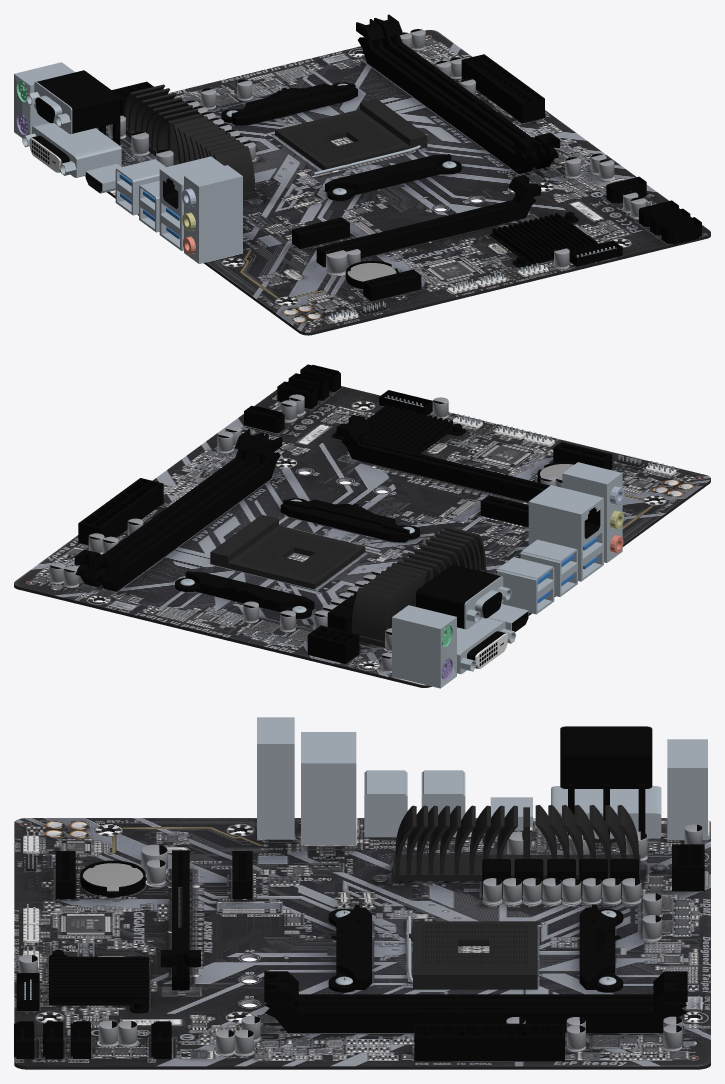
Rendered from placa-am4.glb.
The picture shows the model from 3 angles, top to bottom: view 1: azimuth 30°, elevation 25°; view 2: azimuth 150°, elevation 25°; view 3: azimuth 270°, elevation 25°; orthographic projection. The views are drawn at different scales.
Parts seen in each view (by area): view 1: motherboard_65, mosfet radiator_44, am4 socket_4, cooling system_39, 5.1 sound_2, ram slot 1_52, vga_64, pci expres slot_46, dvi_40, bridge radiator_9, 24 pin connector_0, ram slot 1.001_53 (+14 smaller); view 2: motherboard_65, am4 socket_4, mosfet radiator_44, cooling system_39, ram slot 1_52, ethernet and usb 2.0_41, ps/2_47, pci expres slot_46, vga_64, ram slot 1.001_53, bridge radiator_9, 5.1 sound_2 (+14 smaller); view 3: motherboard_65, mosfet radiator_44, ram slot 1.001_53, am4 socket_4, vga_64, ethernet and usb 2.0_41, cooling system_39, 24 pin connector_0, bridge radiator_9, 5.1 sound_2, ram slot 1_52, ps/2_47 (+18 smaller).
Part boxes in pixels (x1,y1,x2,y2): motherboard_65: (85, 30, 710, 335); mosfet radiator_44: (123, 84, 255, 199); am4 socket_4: (275, 99, 427, 169); cooling system_39: (221, 82, 461, 200); 5.1 sound_2: (182, 165, 242, 263); ram slot 1_52: (358, 37, 540, 173); vga_64: (26, 70, 120, 145); pci expres slot_46: (316, 195, 535, 267); dvi_40: (22, 122, 121, 177); bridge radiator_9: (490, 212, 597, 267); 24 pin connector_0: (461, 54, 544, 123); ram slot 1.001_53: (381, 34, 558, 169); motherboard_65: (14, 381, 710, 687); am4 socket_4: (210, 515, 365, 589); mosfet radiator_44: (351, 526, 486, 647); cooling system_39: (175, 498, 419, 619); ram slot 1_52: (95, 452, 280, 591); ethernet and usb 2.0_41: (528, 485, 603, 581); ps/2_47: (392, 605, 456, 688); pci expres slot_46: (341, 436, 549, 501); vga_64: (416, 564, 511, 629); ram slot 1.001_53: (75, 449, 256, 587); bridge radiator_9: (332, 404, 466, 453); 5.1 sound_2: (562, 462, 624, 562); motherboard_65: (14, 818, 710, 1069); mosfet radiator_44: (393, 805, 640, 880); ram slot 1.001_53: (265, 1002, 686, 1033); am4 socket_4: (409, 921, 537, 989); vga_64: (560, 726, 652, 837); ethernet and usb 2.0_41: (301, 732, 356, 844); cooling system_39: (328, 904, 623, 992); 24 pin connector_0: (414, 1023, 564, 1061); bridge radiator_9: (49, 950, 149, 1013); 5.1 sound_2: (257, 717, 294, 839); ram slot 1_52: (266, 994, 686, 1005); ps/2_47: (667, 739, 707, 840).
Bounding box in the file's own units: 4.26 × 0.7561 × 4.8.
Materials: 14 (1 with a texture image).
